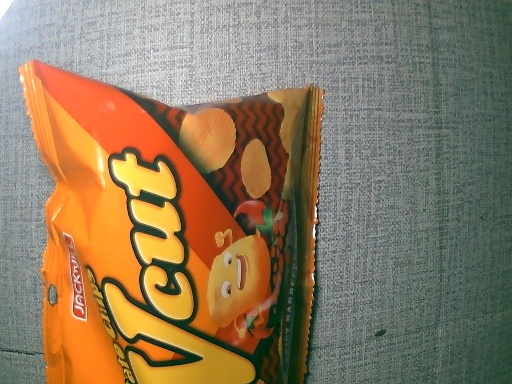plastic: (27, 68, 343, 384)
